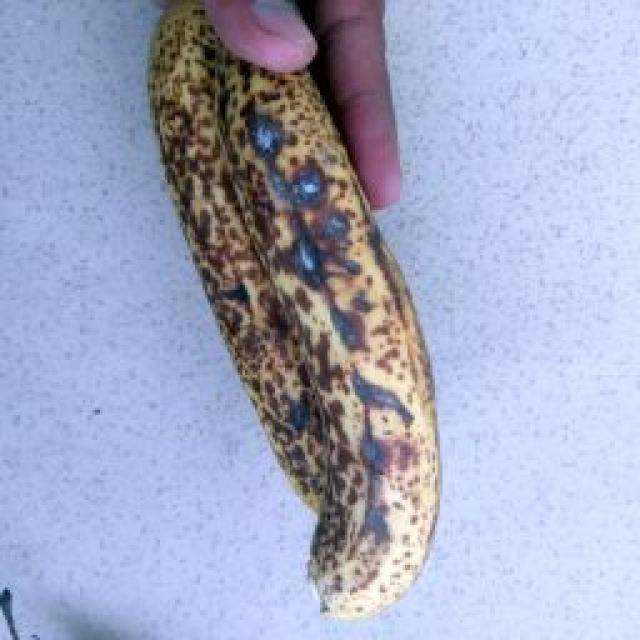banana: (126, 70, 614, 476)
